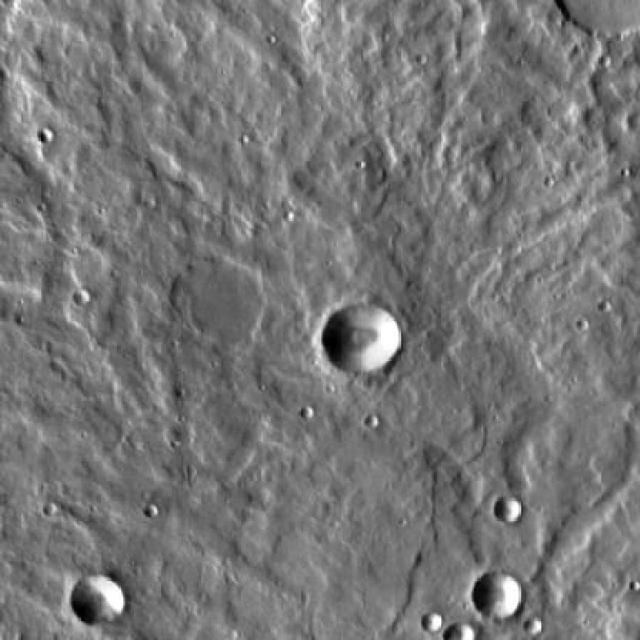crater: (173, 256, 269, 346), (324, 300, 399, 372), (72, 572, 128, 626), (472, 572, 520, 619), (497, 497, 523, 521), (446, 626, 474, 640), (424, 613, 442, 632), (72, 288, 90, 304), (36, 128, 53, 144), (526, 618, 542, 633)
